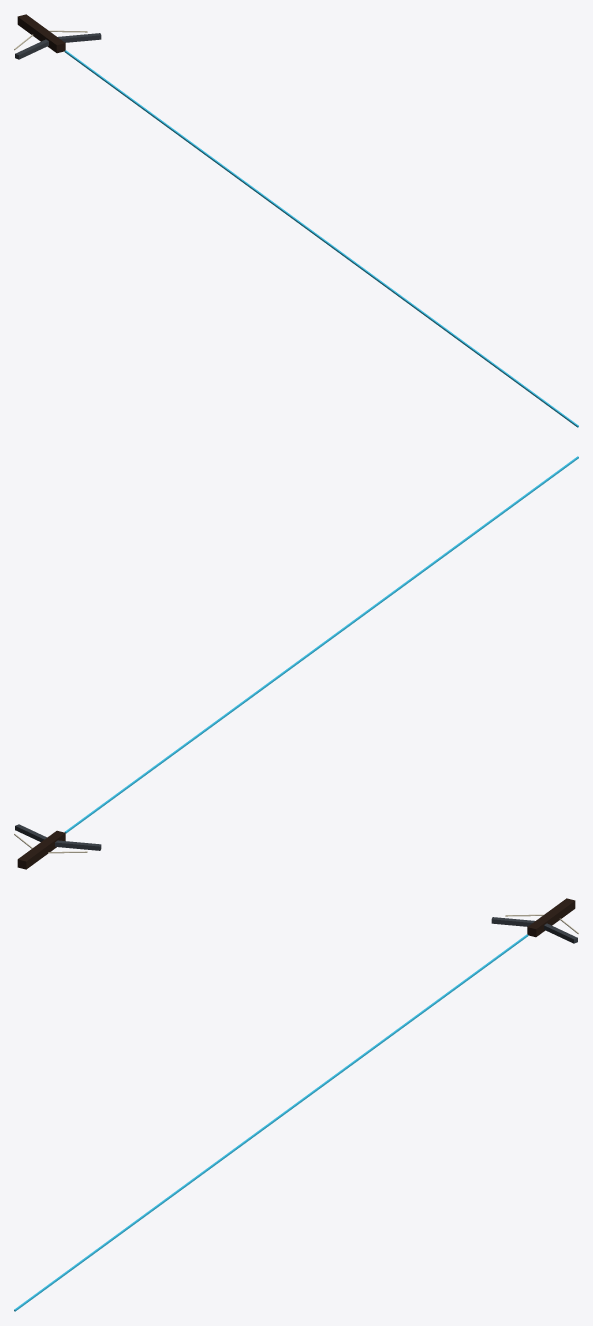
File: skyfleet_bake2_19.glb
The picture shows the model from 3 angles, top to bottom: view 1: azimuth 30°, elevation 25°; view 2: azimuth 150°, elevation 25°; view 3: azimuth 330°, elevation 25°; orthographic projection.
Parts seen in each view (by area): view 1: baked; view 2: baked; view 3: baked.
Boxes of the visible parts, box(x1,y1,x2,y2) form: baked: box(14, 14, 578, 427); baked: box(14, 456, 578, 869); baked: box(14, 898, 578, 1311).
Bounding box in the file's own units: 2.88 × 0.26 × 32.55.
